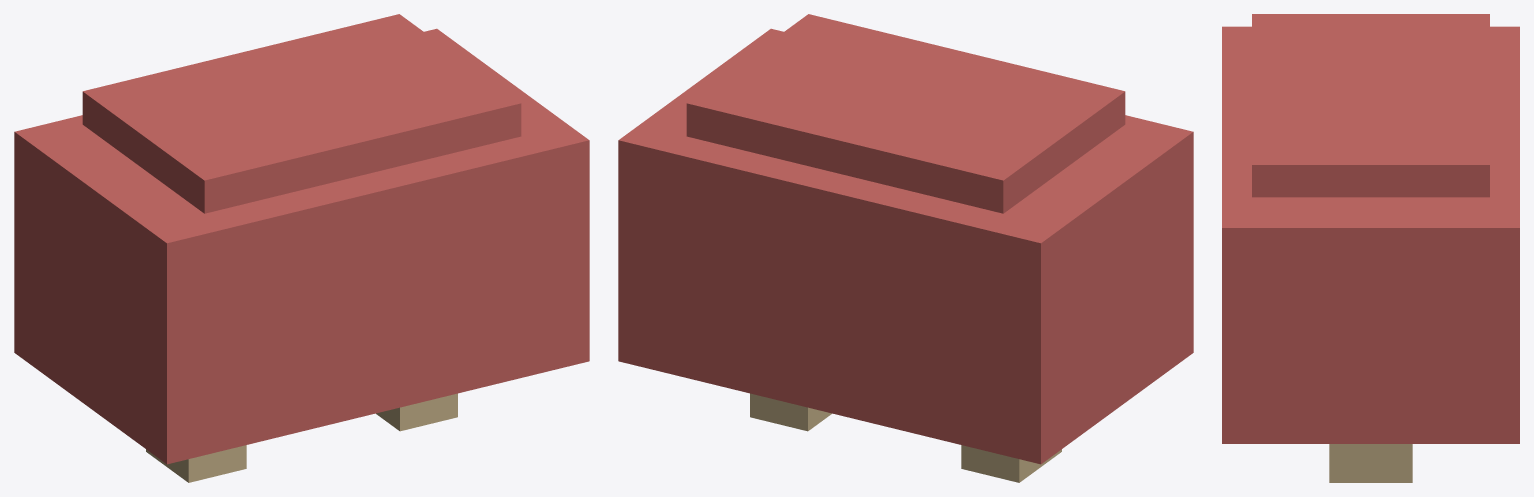
Rendered from 50_L97_W067_Jumper.glb.
3 views of the same model, side by side, from view 1: azimuth 30°, elevation 25°; view 2: azimuth 150°, elevation 25°; view 3: azimuth 270°, elevation 25° (orthographic). The views are drawn at different scales.
Visible parts, largest first — view 1: W067_insulator_0, W067_grip_3, W067_metal_contact_1, W067_metal_contact_2; view 2: W067_insulator_0, W067_grip_3, W067_metal_contact_1, W067_metal_contact_2; view 3: W067_insulator_0, W067_grip_3, W067_metal_contact_2.
Boxes of the visible parts, x1,y1,x2,y2 form: W067_insulator_0: (14, 28, 589, 464); W067_grip_3: (82, 14, 521, 213); W067_metal_contact_1: (146, 445, 246, 482); W067_metal_contact_2: (376, 393, 457, 431); W067_insulator_0: (618, 28, 1193, 464); W067_grip_3: (686, 14, 1125, 213); W067_metal_contact_1: (961, 445, 1061, 482); W067_metal_contact_2: (750, 393, 831, 431); W067_insulator_0: (1222, 26, 1519, 443); W067_grip_3: (1252, 14, 1489, 197); W067_metal_contact_2: (1329, 444, 1412, 482).
Bounding box in the file's own units: 0.008 × 0.0061 × 0.005.
